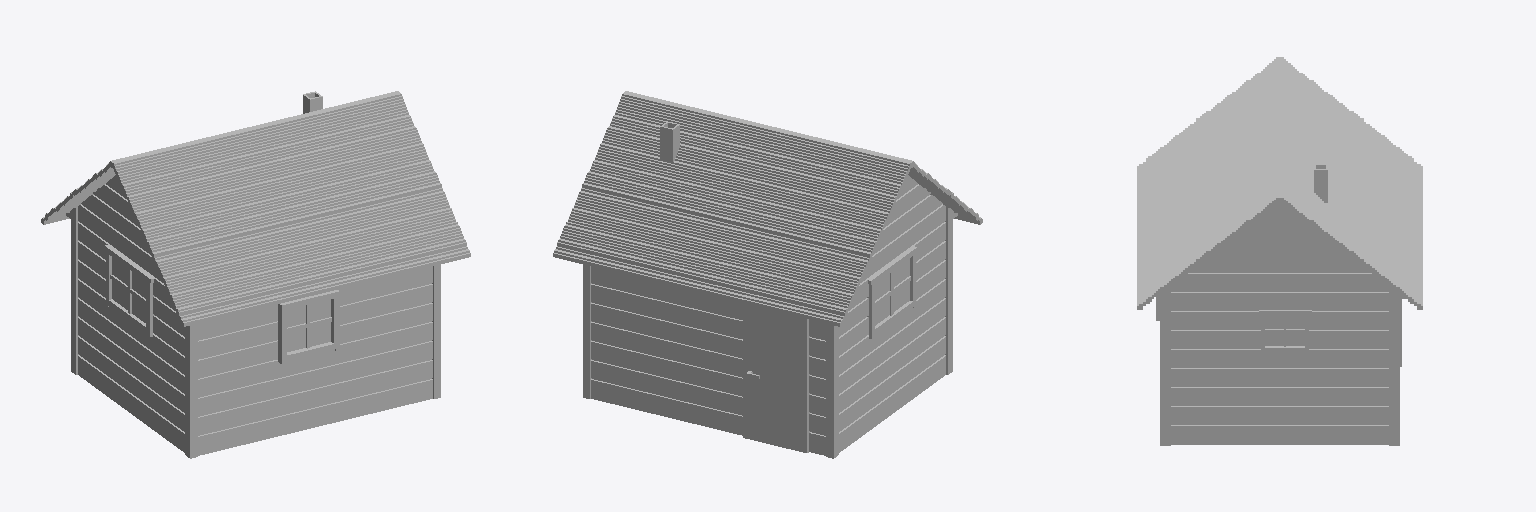
The model's file is fishing home 2(old).obj.
The picture shows the model from 3 angles: view 1: azimuth 30°, elevation 25°; view 2: azimuth 150°, elevation 25°; view 3: azimuth 270°, elevation 25°; orthographic projection.
Parts seen in each view (by area): view 1: object 1; view 2: object 1; view 3: object 1.
Boxes of the visible parts, x1=… form: object 1: x1=41, y1=91, x2=470, y2=458; object 1: x1=553, y1=91, x2=982, y2=458; object 1: x1=1137, y1=57, x2=1422, y2=445.
Bounding box in the file's own units: 15.8 × 13.5 × 13.6.